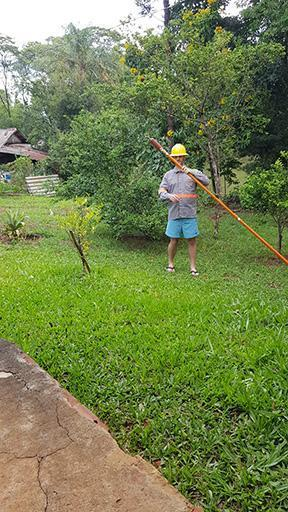helmet: (170, 142, 188, 166)
